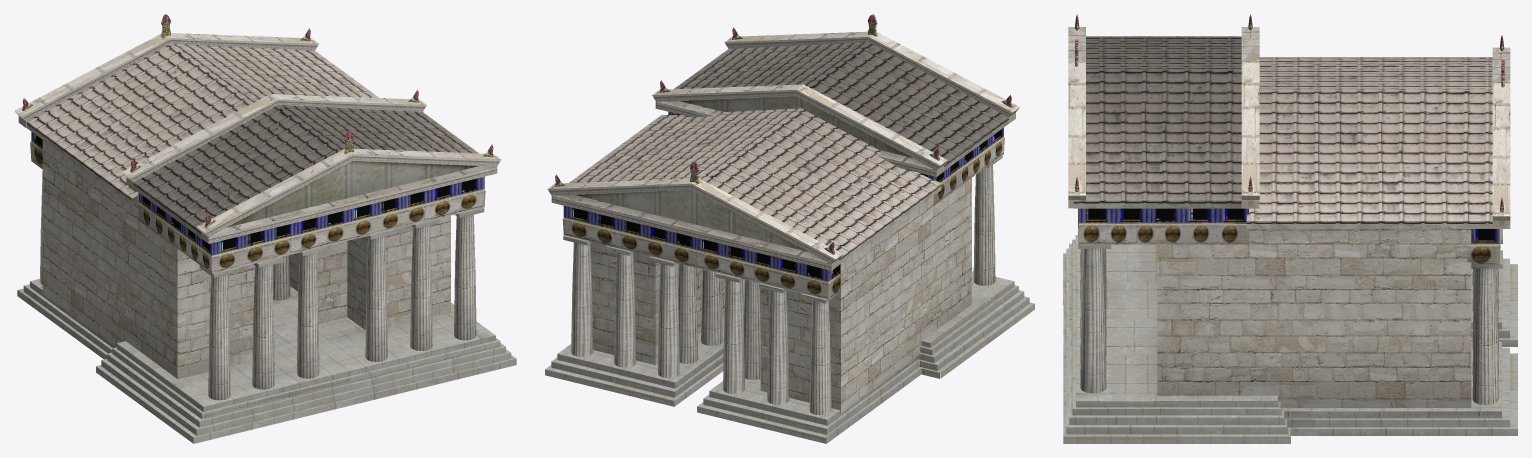
Rendered from propylaea.glb.
3 views of the same model, side by side, from view 1: azimuth 30°, elevation 25°; view 2: azimuth 150°, elevation 25°; view 3: azimuth 270°, elevation 25° (orthographic). The views are drawn at different scales.
Visible parts, largest first — view 1: propylaea_part3, propylaea_part4, propylaea_part0, propylaea_part2, propylaea_part1; view 2: propylaea_part3, propylaea_part0, propylaea_part4, propylaea_part1, propylaea_part2; view 3: propylaea_part3, propylaea_part4, propylaea_part2, propylaea_part0, propylaea_part1.
Boxes of the visible parts, x1,y1,x2,y2 form: propylaea_part3: (26, 43, 478, 237); propylaea_part4: (42, 140, 450, 388); propylaea_part0: (14, 33, 501, 273); propylaea_part2: (17, 160, 516, 443); propylaea_part1: (22, 14, 493, 400); propylaea_part3: (569, 42, 1008, 264); propylaea_part0: (547, 31, 1019, 299); propylaea_part4: (590, 177, 971, 413); propylaea_part1: (554, 14, 1012, 415); propylaea_part2: (545, 155, 1034, 443); propylaea_part3: (1073, 37, 1492, 228); propylaea_part4: (1157, 229, 1471, 407); propylaea_part2: (1063, 229, 1517, 443); propylaea_part0: (1068, 27, 1510, 265); propylaea_part1: (1074, 14, 1504, 405).
Size of the model in its own units: 4.29 by 3.41 by 4.5.
Materials: 5 (5 with a texture image).
